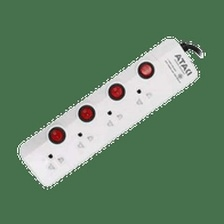three_eye_plug: (15, 34, 200, 191)
